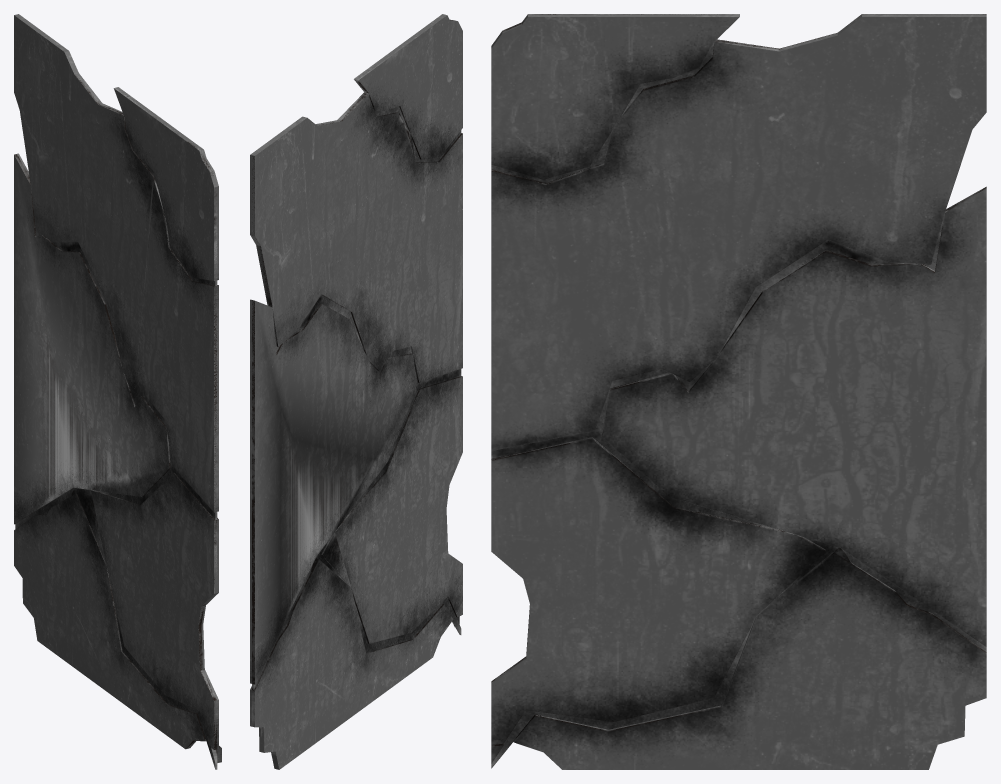
The model's file is lustro_broken_final.glb.
3 views of the same model, side by side, from view 1: azimuth 30°, elevation 25°; view 2: azimuth 150°, elevation 25°; view 3: azimuth 270°, elevation 25° (orthographic). The views are drawn at different scales.
Parts seen in each view (by area): view 1: Plane; view 2: Plane; view 3: Plane.
Part boxes in pixels (<box>): Plane: <box>14,14,221,769</box>; Plane: <box>250,14,462,769</box>; Plane: <box>491,14,986,769</box>.
Size of the model in its own units: 0.0451 by 3.36 by 2.
1 material, 1 textured.
